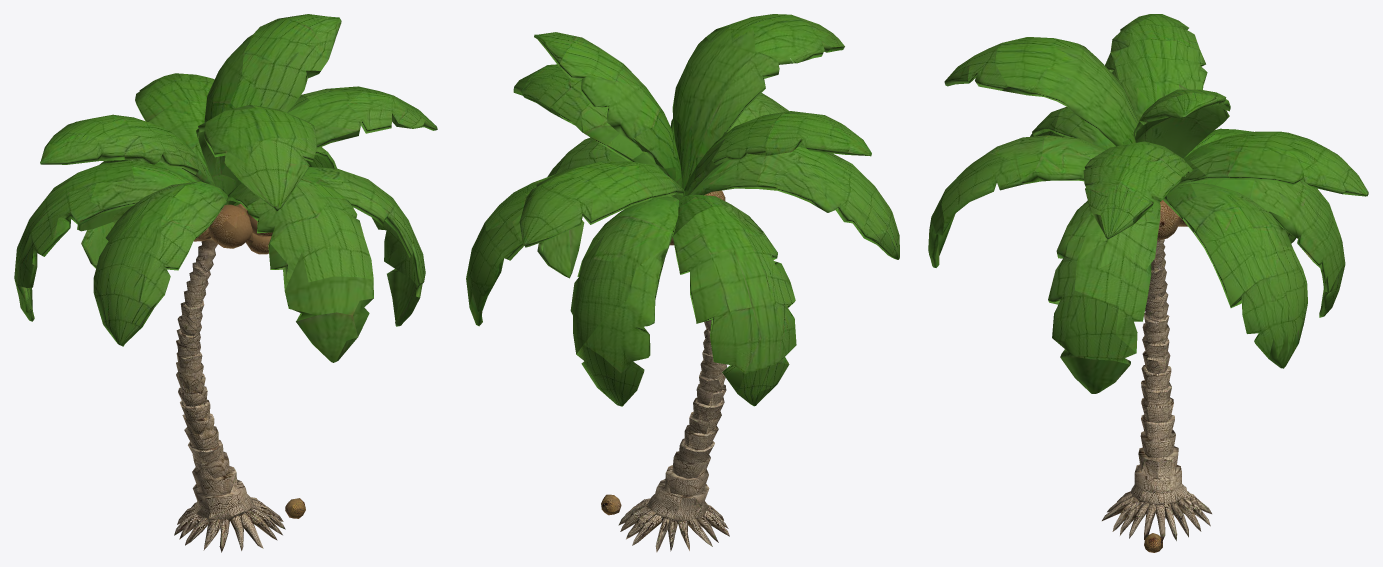
File: palm2.glb
The picture shows the model from 3 angles, left to right: view 1: azimuth 30°, elevation 25°; view 2: azimuth 150°, elevation 25°; view 3: azimuth 270°, elevation 25°; orthographic projection. The views are drawn at different scales.
Size of the model in its own units: 0.8262 by 1 by 0.8516.
Materials: 1 (1 with a texture image).
